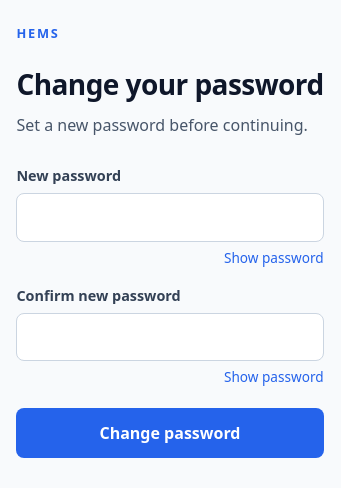
ChangePasswordView › shows field errors on mismatch
The width and height of the screenshot is (341, 488).
Type "NewPass123" into the password field with test id "new-password" at [170, 218], box [16, 193, 324, 242]
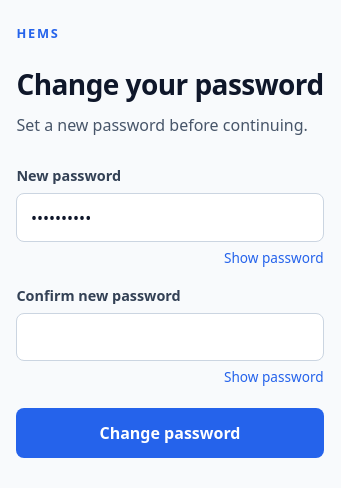
Type "Different1" into the password field with test id "confirm-password" at [170, 337], box [16, 313, 324, 361]
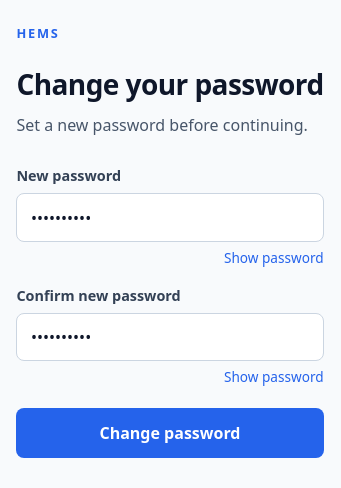
Click the button with test id "change-password-submit" at [170, 433], box [16, 408, 324, 458]
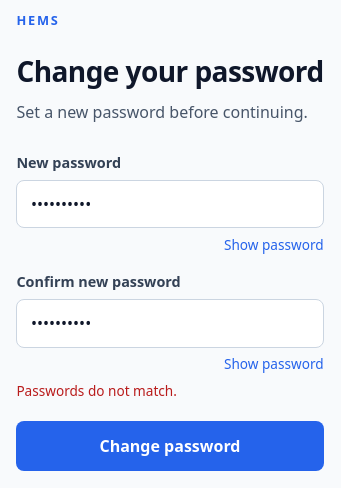
Expected: the text "Passwords do not match." is shown, [16, 381, 177, 400]
